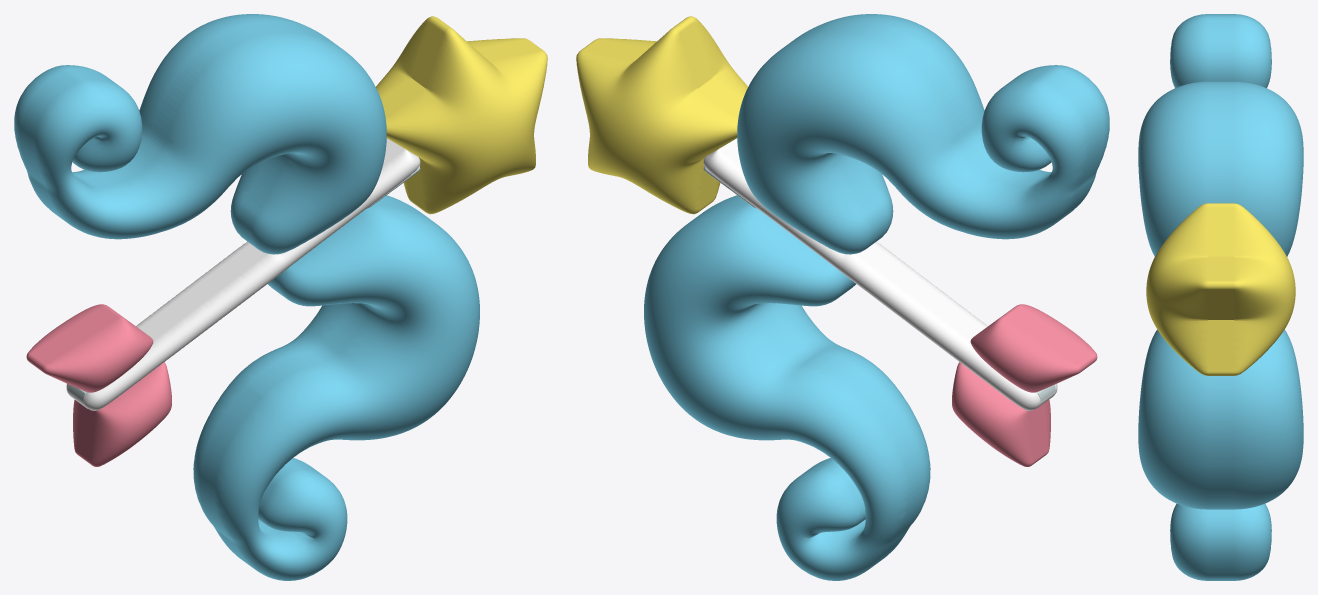
Rendered from 사수자리.glb.
The picture shows the model from 3 angles, left to right: view 1: azimuth 30°, elevation 25°; view 2: azimuth 150°, elevation 25°; view 3: azimuth 270°, elevation 25°; orthographic projection. The views are drawn at different scales.
Size of the model in its own units: 0.0794 by 0.0813 by 0.0257.
